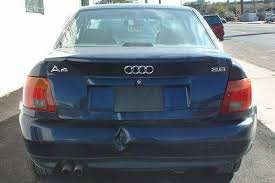Dent: (109, 124, 133, 153), (200, 93, 224, 119)
